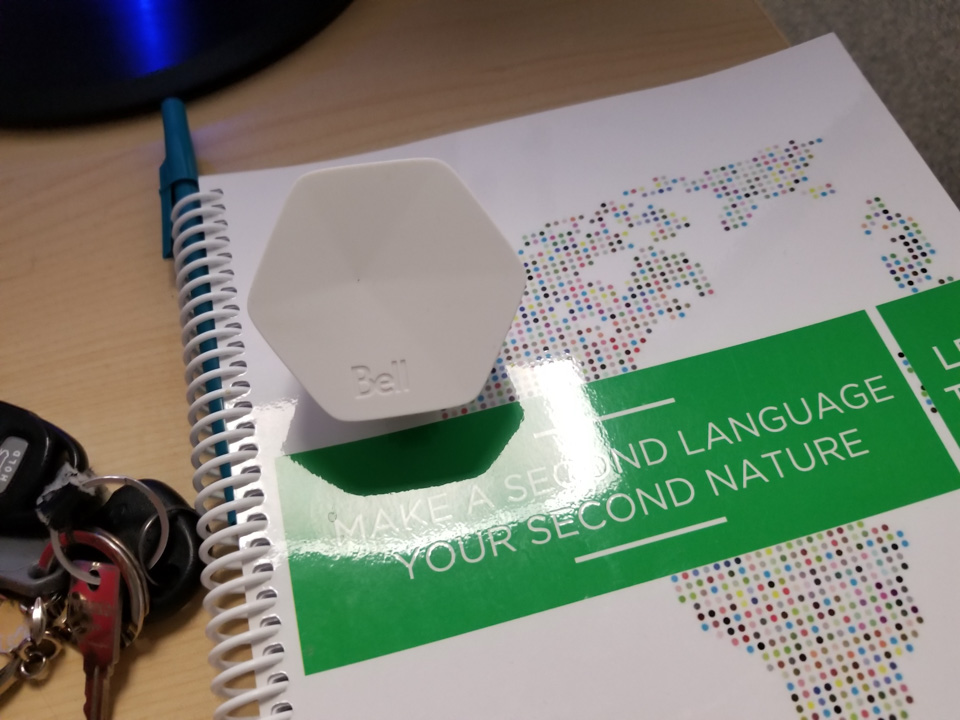pod: (244, 154, 537, 427)
